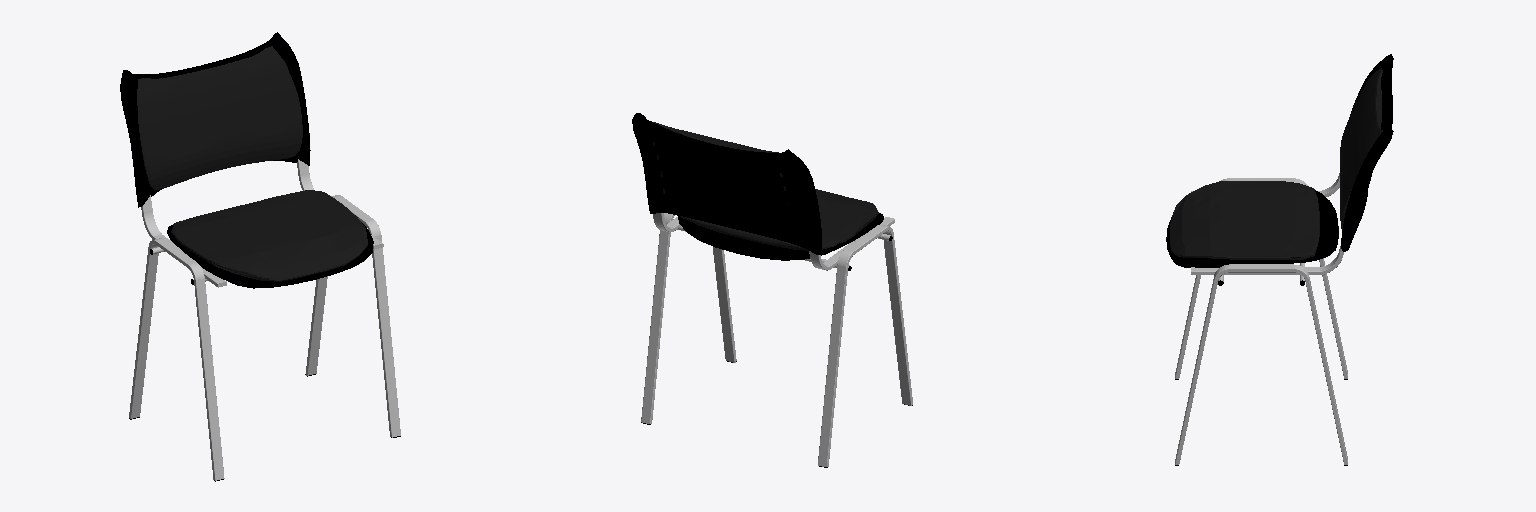
3 renders of one model, left to right at view 1: azimuth 30°, elevation 25°; view 2: azimuth 150°, elevation 25°; view 3: azimuth 270°, elevation 25°, orthographic.
Parts seen in each view (by area): view 1: Mesh35 Box01_1_1 Group1 Model, Mesh36 Box02_1_1 Group1 Model, Mesh22 Group16 Group2 Group1 Model, Mesh4 Box01_1 Group3 Group2 Group1 Model, Mesh16 Group9 Group2 Group1 Model, Mesh24 Box02_1 Group2 Group1 Model, Mesh23 Group19 Group2 Group1 Model; view 2: Mesh4 Box01_1 Group3 Group2 Group1 Model, Mesh22 Group16 Group2 Group1 Model, Mesh16 Group9 Group2 Group1 Model, Mesh36 Box02_1_1 Group1 Model, Mesh24 Box02_1 Group2 Group1 Model, Mesh35 Box01_1_1 Group1 Model; view 3: Mesh36 Box02_1_1 Group1 Model, Mesh35 Box01_1_1 Group1 Model, Mesh16 Group9 Group2 Group1 Model, Mesh4 Box01_1 Group3 Group2 Group1 Model, Mesh24 Box02_1 Group2 Group1 Model, Mesh22 Group16 Group2 Group1 Model, Mesh13 Group8 Group2 Group1 Model.
Boxes of the visible parts, x1=… form: Mesh35 Box01_1_1 Group1 Model: x1=137, y1=46, x2=302, y2=189; Mesh36 Box02_1_1 Group1 Model: x1=171, y1=190, x2=367, y2=281; Mesh22 Group16 Group2 Group1 Model: x1=129, y1=238, x2=224, y2=480; Mesh4 Box01_1 Group3 Group2 Group1 Model: x1=120, y1=32, x2=310, y2=207; Mesh16 Group9 Group2 Group1 Model: x1=306, y1=195, x2=400, y2=437; Mesh24 Box02_1 Group2 Group1 Model: x1=167, y1=221, x2=373, y2=288; Mesh23 Group19 Group2 Group1 Model: x1=141, y1=195, x2=226, y2=287; Mesh4 Box01_1 Group3 Group2 Group1 Model: x1=632, y1=113, x2=821, y2=254; Mesh22 Group16 Group2 Group1 Model: x1=818, y1=225, x2=912, y2=466; Mesh16 Group9 Group2 Group1 Model: x1=641, y1=213, x2=736, y2=423; Mesh36 Box02_1_1 Group1 Model: x1=680, y1=189, x2=878, y2=250; Mesh24 Box02_1 Group2 Group1 Model: x1=677, y1=212, x2=883, y2=260; Mesh35 Box01_1_1 Group1 Model: x1=651, y1=121, x2=788, y2=203; Mesh36 Box02_1_1 Group1 Model: x1=1170, y1=181, x2=1319, y2=259; Mesh35 Box01_1_1 Group1 Model: x1=1340, y1=68, x2=1382, y2=229; Mesh16 Group9 Group2 Group1 Model: x1=1175, y1=264, x2=1347, y2=464; Mesh4 Box01_1 Group3 Group2 Group1 Model: x1=1341, y1=54, x2=1393, y2=251; Mesh24 Box02_1 Group2 Group1 Model: x1=1166, y1=190, x2=1338, y2=267; Mesh22 Group16 Group2 Group1 Model: x1=1175, y1=178, x2=1347, y2=378; Mesh13 Group8 Group2 Group1 Model: x1=1191, y1=246, x2=1343, y2=274.
Bounding box in the file's own units: 0.5028 × 0.8369 × 0.5246.
3 materials, 2 textured.